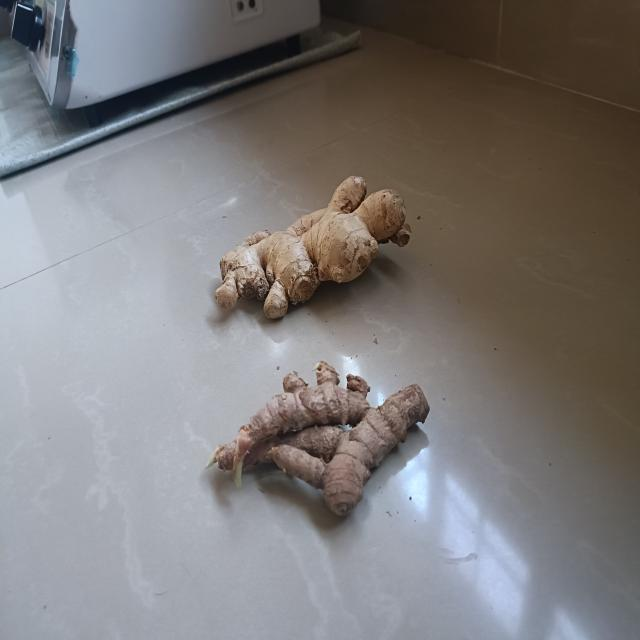ginger: (209, 364, 425, 514), (212, 175, 416, 321)
